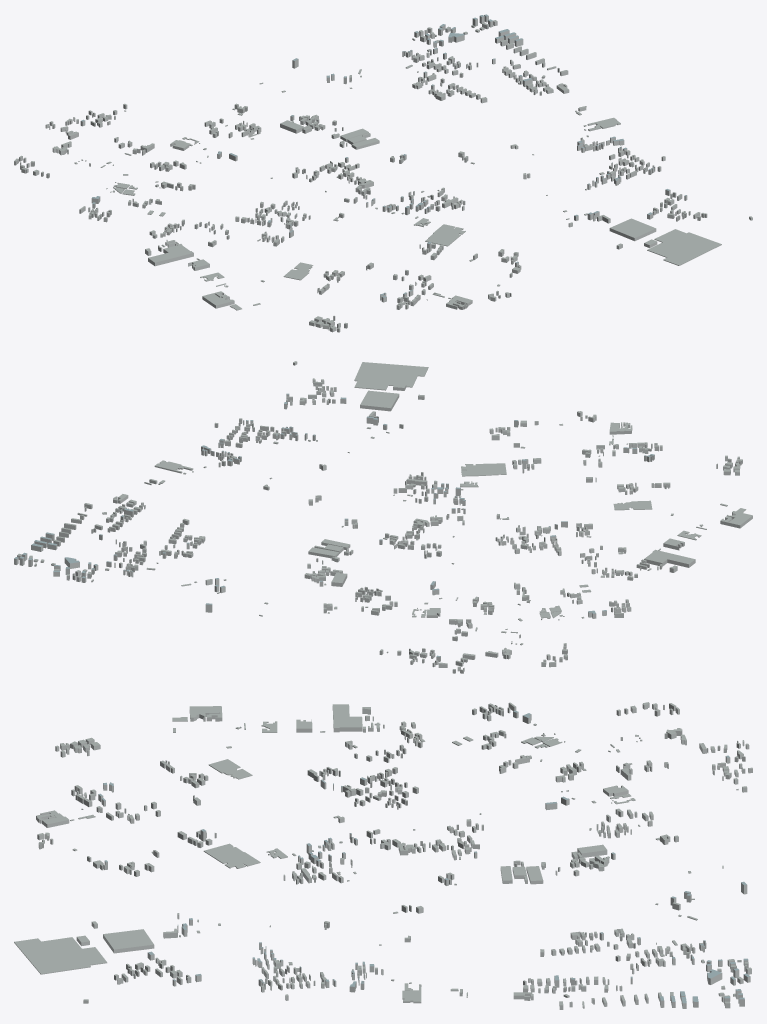
Rendered from far.glb.
3 views of the same model, one above another, from view 1: azimuth 30°, elevation 25°; view 2: azimuth 150°, elevation 25°; view 3: azimuth 270°, elevation 25° (orthographic). The views are drawn at different scales.
Size of the model in its own units: 2114 by 32.62 by 2176.
